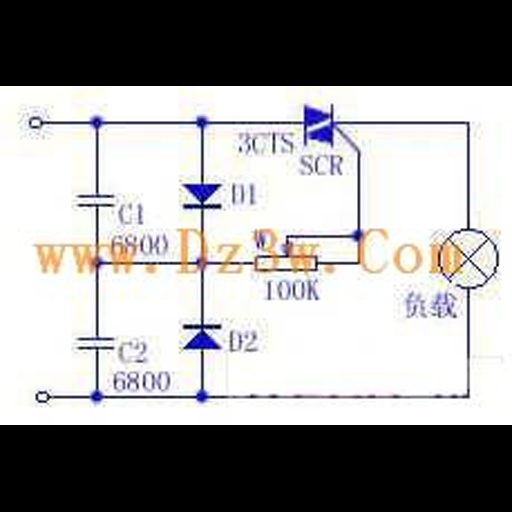capacitor: (68, 187, 118, 214), (69, 334, 116, 353)
firstdiode: (175, 318, 224, 357), (176, 178, 226, 216)
light: (434, 224, 501, 289)
